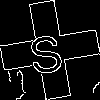S: (25, 25, 66, 76)
